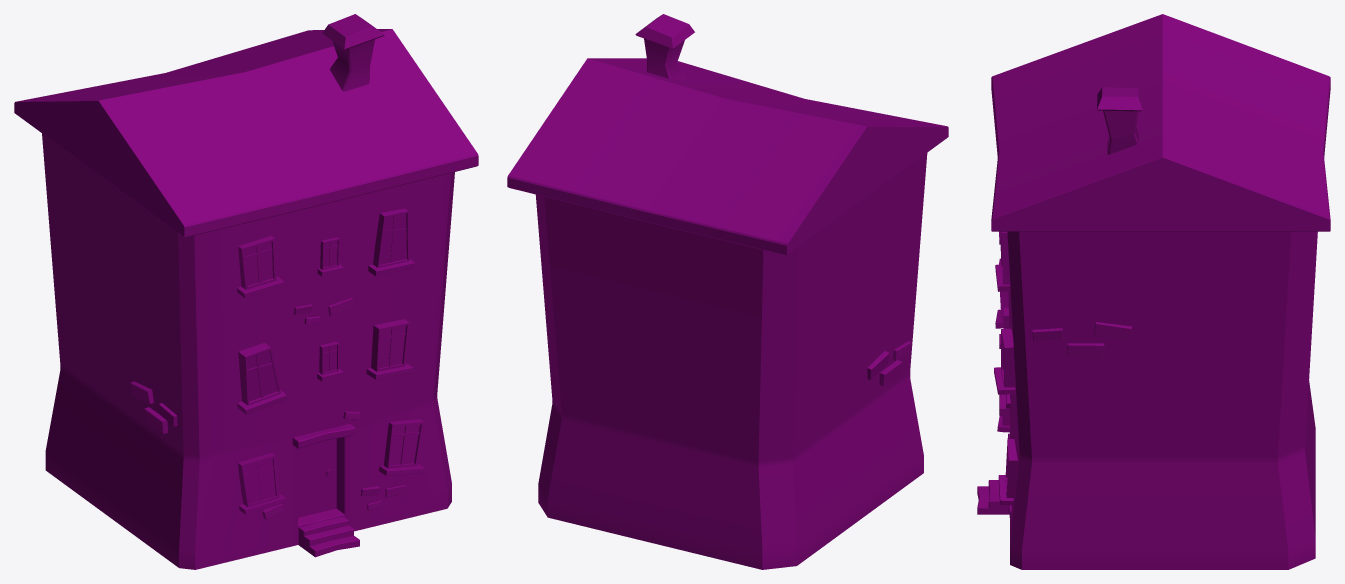
The model's file is Middle_hoouse_correct.fbx.
The picture shows the model from 3 angles, left to right: view 1: azimuth 30°, elevation 25°; view 2: azimuth 150°, elevation 25°; view 3: azimuth 270°, elevation 25°; orthographic projection. The views are drawn at different scales.
Visible parts, largest first — view 1: pCube27; view 2: pCube27; view 3: pCube27.
Part boxes in pixels (box(x1,y1,x2,y2)): pCube27: box(14, 14, 478, 569); pCube27: box(507, 14, 948, 569); pCube27: box(977, 14, 1330, 569).
Size of the model in its own units: 1027 by 1520 by 1070.
